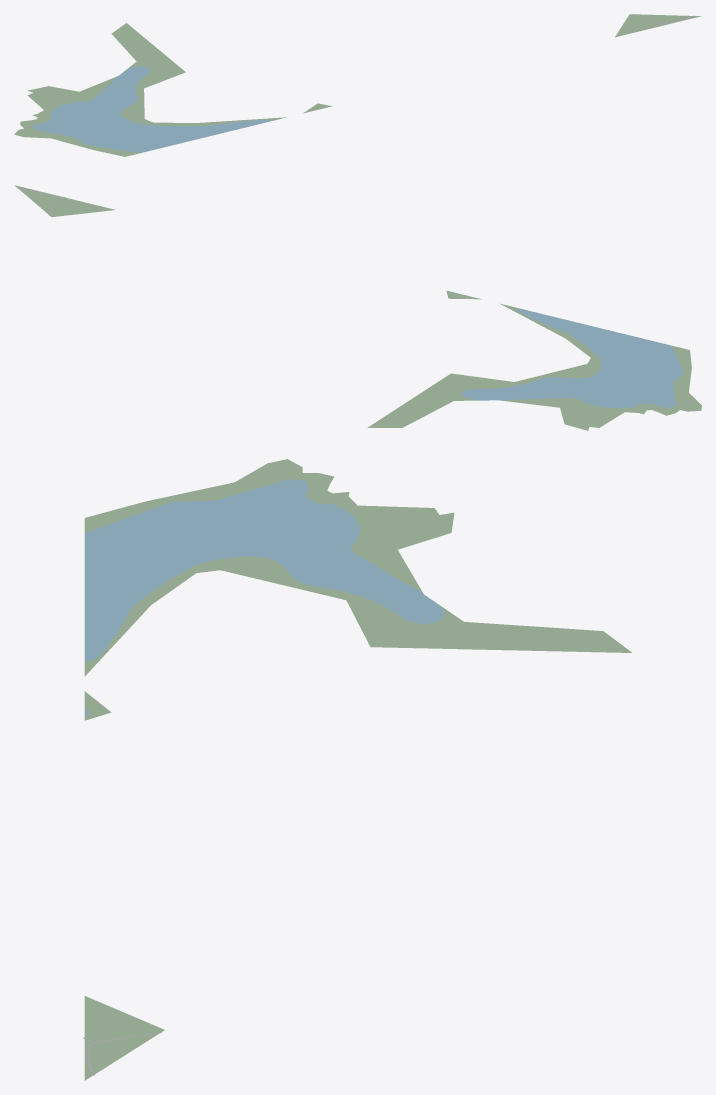
The model's file is overview-known--4_9.glb.
3 views of the same model, one above another, from view 1: azimuth 30°, elevation 25°; view 2: azimuth 150°, elevation 25°; view 3: azimuth 270°, elevation 25° (orthographic). The views are drawn at different scales.
Size of the model in its own units: 1491 by 0.2156 by 557.
